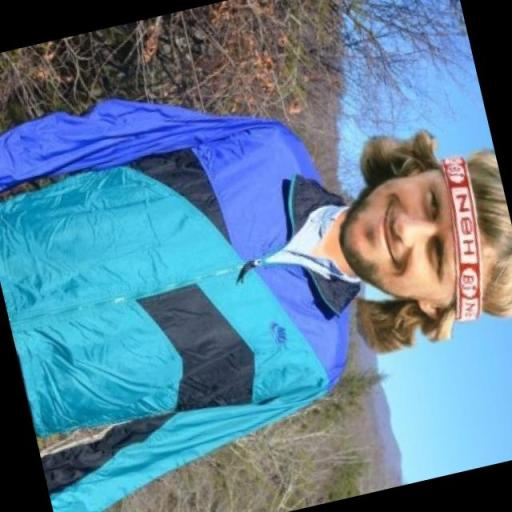Nike: (262, 315, 292, 354)
